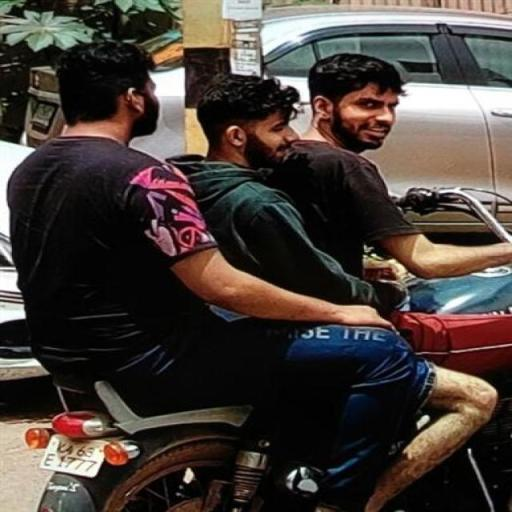tripple riding: (0, 37, 512, 370)
